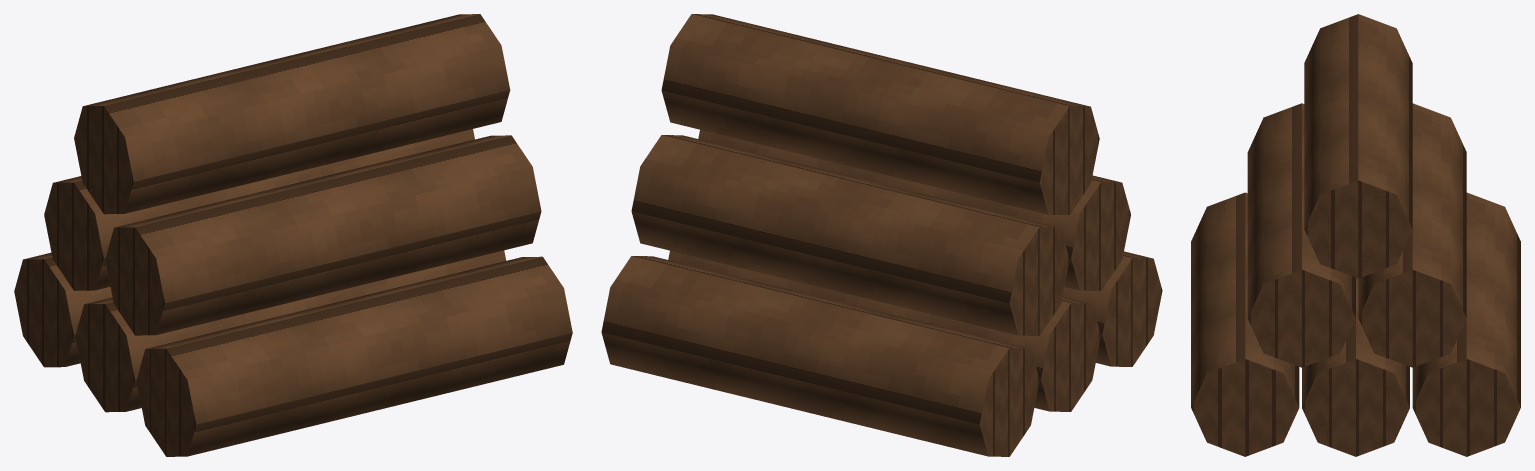
The model's file is lena.glb.
3 views of the same model, side by side, from view 1: azimuth 30°, elevation 25°; view 2: azimuth 150°, elevation 25°; view 3: azimuth 270°, elevation 25° (orthographic). The views are drawn at different scales.
Parts seen in each view (by area): view 1: lena; view 2: lena; view 3: lena.
Part boxes in pixels (x1=…): lena: x1=14, y1=14, x2=572, y2=456; lena: x1=601, y1=14, x2=1162, y2=456; lena: x1=1191, y1=14, x2=1520, y2=456.
Size of the model in its own units: 1.6 by 1.24 by 1.34.
Materials: 1 (1 with a texture image).
